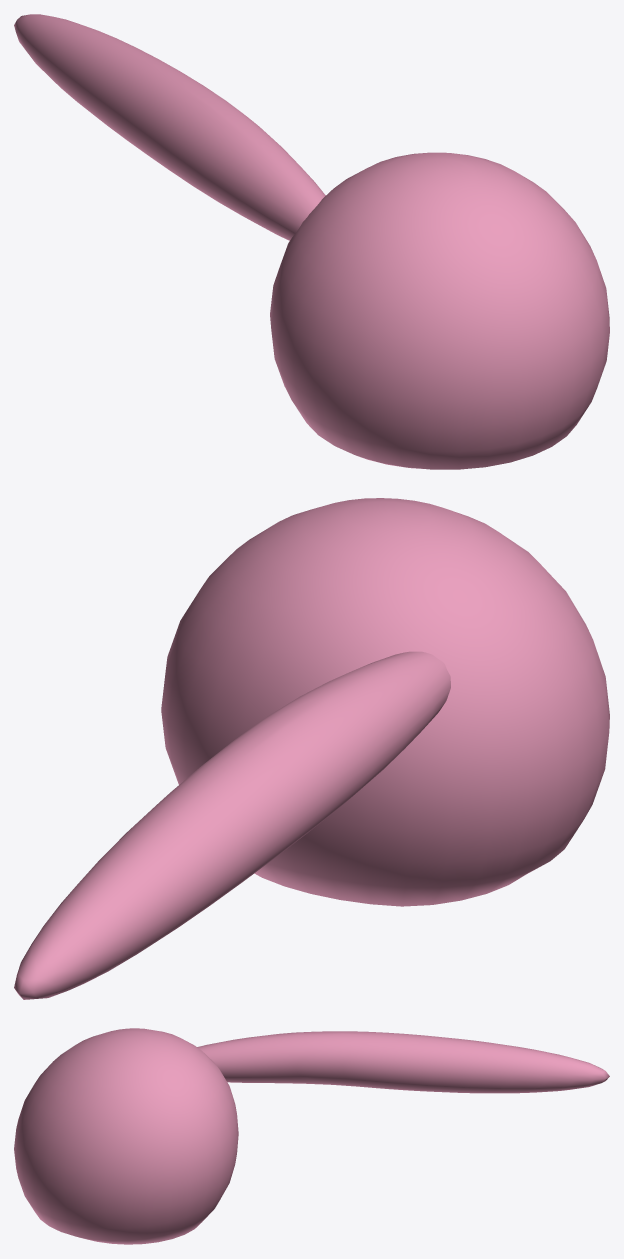
Rendered from hand.obj.
3 renders of one model, top to bottom at view 1: azimuth 30°, elevation 25°; view 2: azimuth 150°, elevation 25°; view 3: azimuth 270°, elevation 25°, orthographic. The views are drawn at different scales.
Parts seen in each view (by area): view 1: Sphere001; view 2: Sphere001; view 3: Sphere001.
Part boxes in pixels (box(x1,y1,x2,y2)): Sphere001: box(14, 14, 609, 469); Sphere001: box(14, 498, 609, 999); Sphere001: box(14, 1028, 609, 1244).
Bounding box in the file's own units: 15.53 × 12.39 × 39.34.
